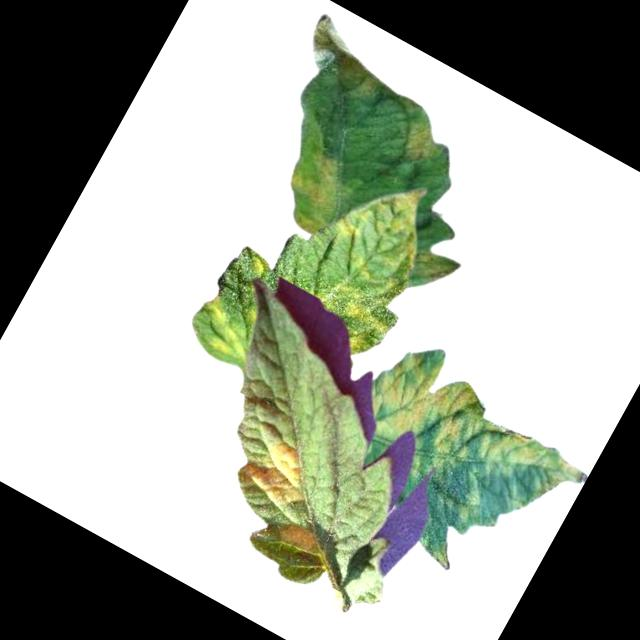Leaf_Mold: (356, 331, 606, 533), (312, 162, 451, 311), (290, 9, 397, 108), (302, 271, 405, 365), (268, 143, 360, 241), (235, 427, 324, 516), (186, 286, 269, 367), (393, 113, 452, 174), (407, 242, 461, 294), (271, 513, 322, 558), (243, 247, 275, 279)
